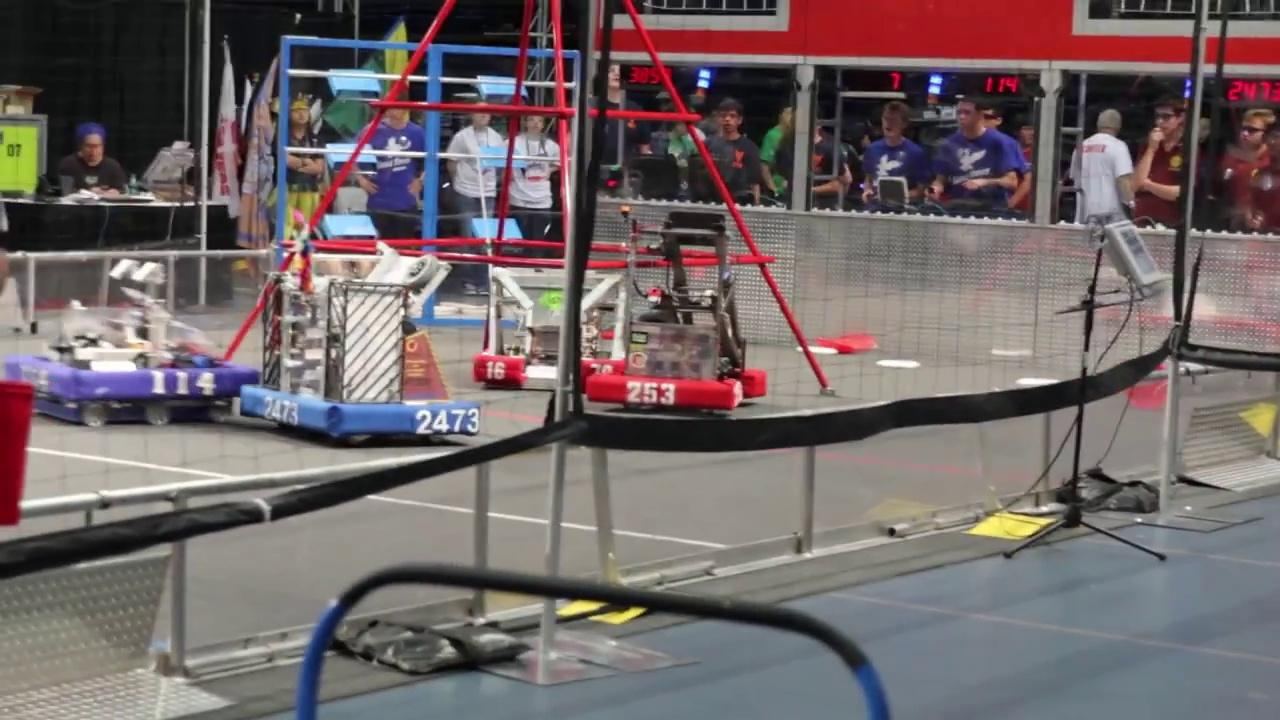robot: (237, 250, 486, 443), (5, 251, 265, 426), (583, 205, 767, 413), (473, 261, 624, 394)
